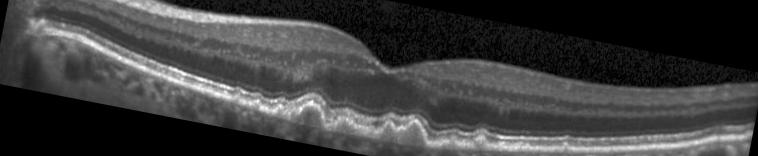retinal_drusen: (397, 122, 425, 149), (295, 104, 322, 127), (379, 121, 396, 143), (438, 137, 464, 150), (335, 119, 356, 135), (270, 103, 291, 119), (472, 137, 485, 151), (243, 101, 259, 111), (230, 92, 240, 104), (562, 144, 569, 152)
